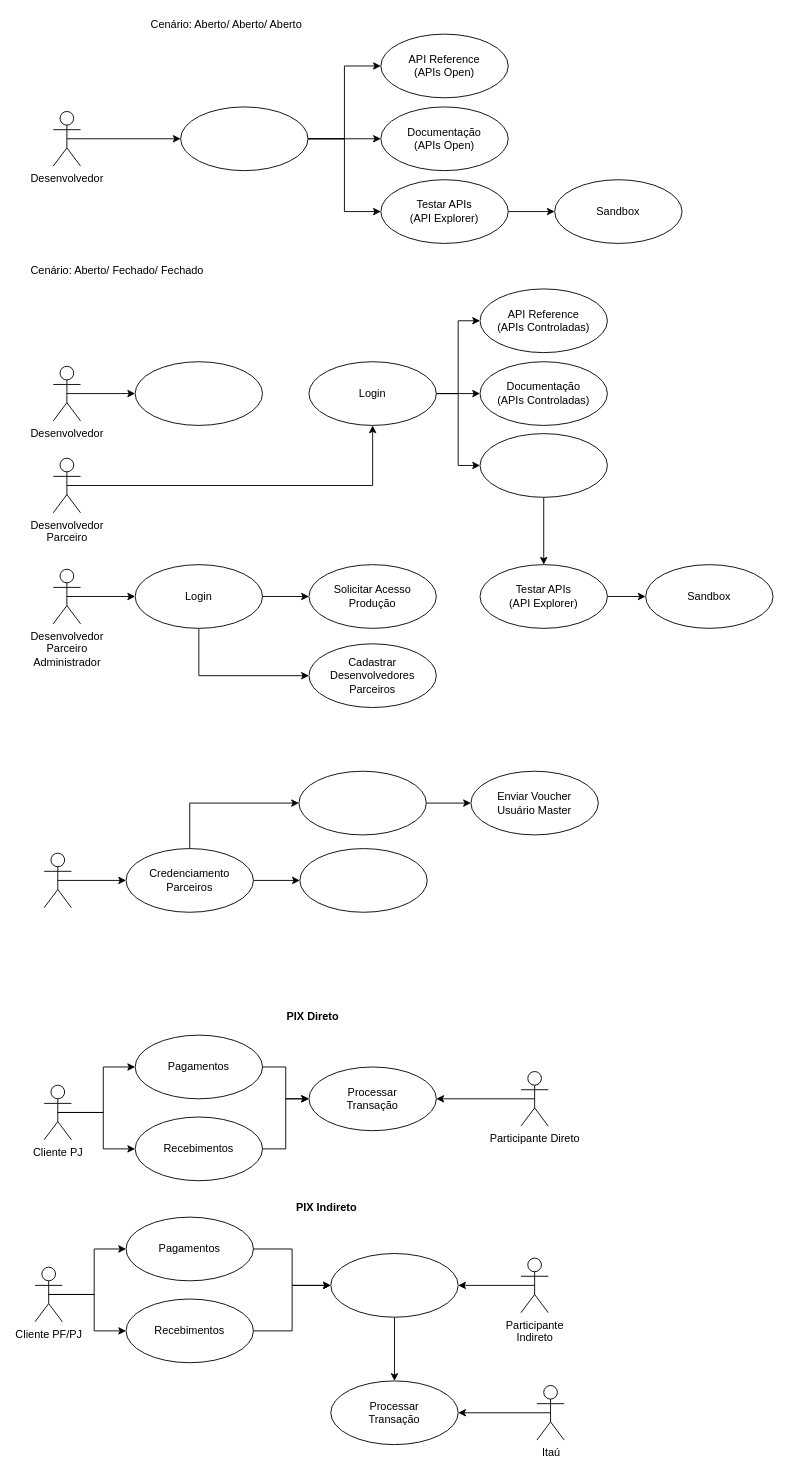
Some shapes in this 789 by 1474 pixel diagram are drawn without their labels. Each missing label, with the box of its shape:
Associar APIs: (299, 848, 427, 912)
Criar/Associar Usuário Master: (298, 770, 426, 835)
Gerar Credenciais (Sandbox): (479, 433, 607, 497)
Gestão da Conta Pagamento: (330, 1253, 458, 1317)
Negócios: (43, 852, 71, 908)
Visualizar Catálogo (APIs Controladas): (134, 361, 263, 425)
Visualizar Catálogo (APIs Open): (180, 106, 308, 171)
